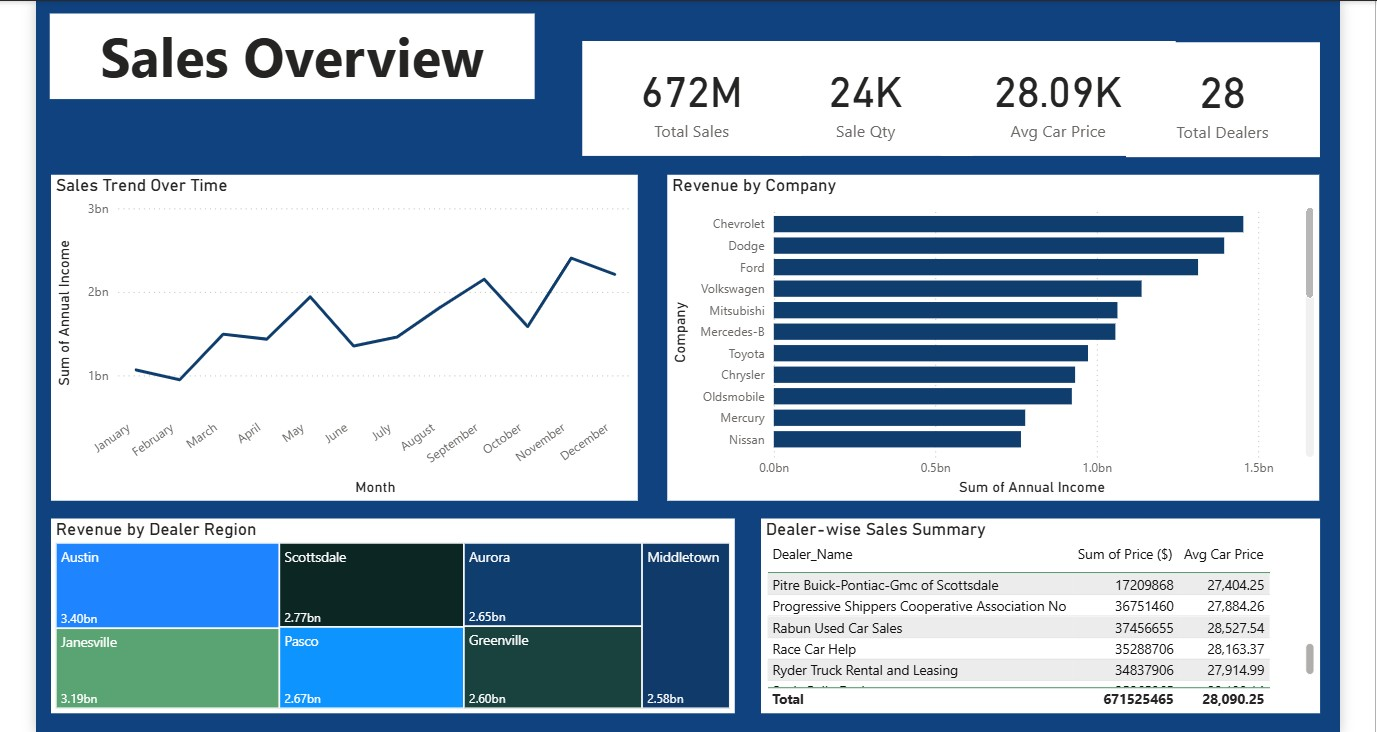

This screenshot's page, from the dashboard's own definition file:
{"tool":"powerbi","page":{"name":"Sales Overview","canvas":[1280,720],"ordinal":1},"visuals":[{"type":"card","fields":{"Values":["car sales.Total Sales"]},"box":[536.5,39.8,215.4,112.5],"z":0},{"type":"card","fields":{"Values":["car sales.Sale Qty"]},"box":[710.8,39.8,208.6,112.5],"z":1000},{"type":"card","fields":{"Values":["car sales.Avg Car Price"]},"box":[887.8,39.8,230.5,112.5],"z":2000},{"type":"card","fields":{"Values":["car sales.Total Dealers"]},"box":[1070,40,190,112.9],"z":3000},{"type":"lineChart","title":"Sales Trend Over Time","fields":{"Category":["car sales.Date.Variation.Date Hierarchy.Month"],"Y":["Sum(car sales.Annual Income)"]},"box":[14.3,170,575.7,320],"z":4000},{"type":"barChart","title":"Revenue by Company","fields":{"Category":["car sales.Company"],"Y":["Sum(car sales.Annual Income)"]},"box":[620,170,640,320],"z":5000},{"type":"treemap","title":" Revenue by Dealer Region","fields":{"Details":["car sales.Dealer_Region"],"Values":["Sum(car sales.Annual Income)"]},"box":[14.3,508.6,671.4,191.4],"z":6000},{"type":"tableEx","title":"Dealer-wise Sales Summary","fields":{"Values":["car sales.Dealer_Name","Sum(car sales.Price ($))","car sales.Avg Car Price"]},"box":[711.4,508.6,548.6,191.4],"z":7000},{"type":"textbox","box":[13.7,12.3,476.2,83.7],"z":8000}]}

Visuals, with their boxes on the page's 1280x720 design canvas (x1, y1, x2, y2). These are canvas units, not pixel positions in the 1377x732 screenshot, which may show the page scaled, cropped or inside an application window:
card - car sales.Total Sales: left=536, top=40, right=752, bottom=152
card - car sales.Sale Qty: left=711, top=40, right=919, bottom=152
card - car sales.Avg Car Price: left=888, top=40, right=1118, bottom=152
card - car sales.Total Dealers: left=1070, top=40, right=1260, bottom=153
"Sales Trend Over Time" lineChart: left=14, top=170, right=590, bottom=490
"Revenue by Company" barChart: left=620, top=170, right=1260, bottom=490
" Revenue by Dealer Region" treemap: left=14, top=509, right=686, bottom=700
"Dealer-wise Sales Summary" tableEx: left=711, top=509, right=1260, bottom=700
textbox: left=14, top=12, right=490, bottom=96
